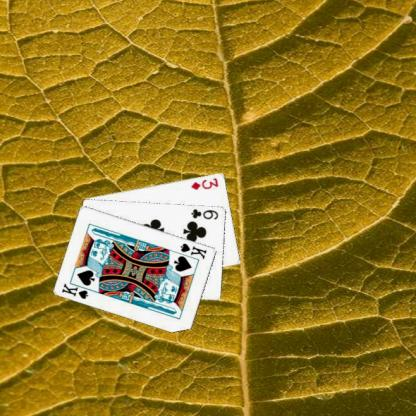3D: (188, 174, 219, 191)
6C: (189, 206, 220, 220)
KS: (60, 279, 95, 300), (178, 240, 208, 260)
